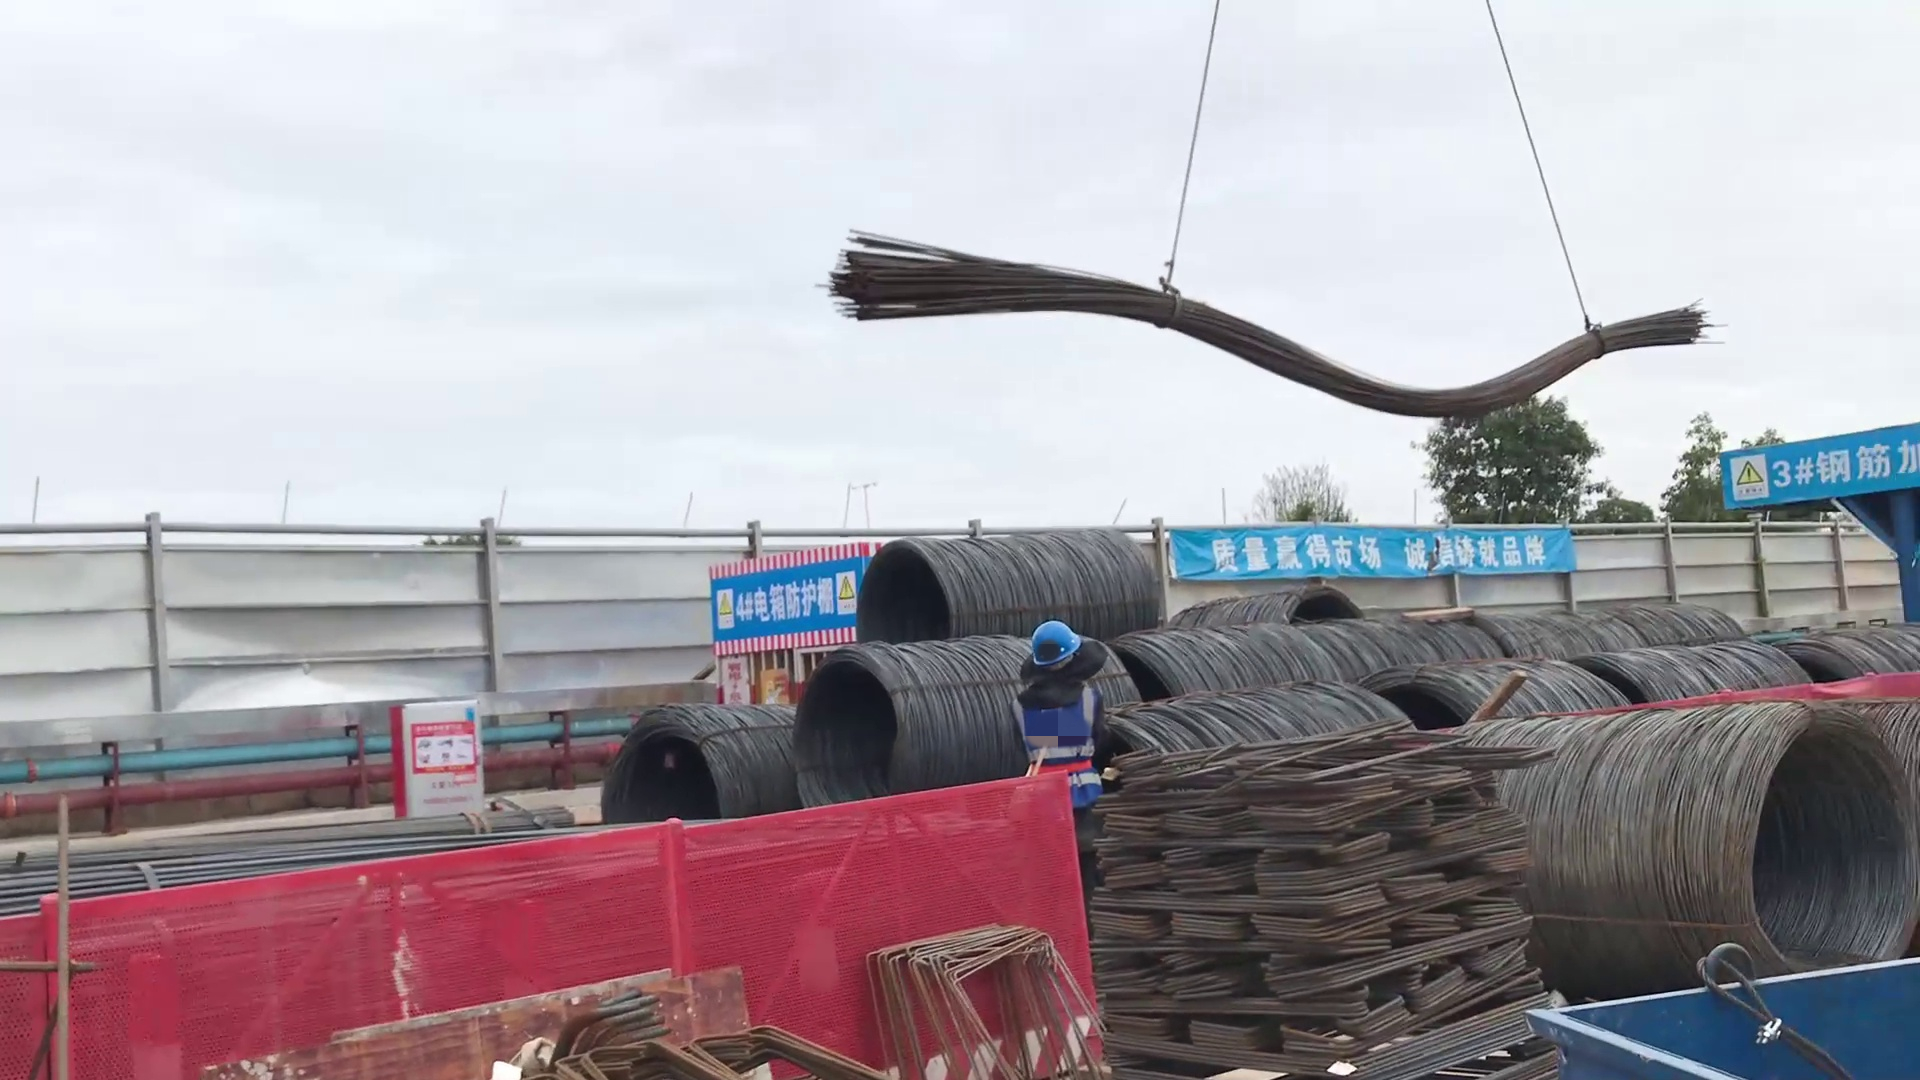helmet: (1031, 620, 1080, 666)
hopper: (1521, 946, 1920, 1080)
person: (1008, 619, 1114, 811)
rebar: (830, 225, 1709, 421)
slogan: (1171, 528, 1572, 583)
vest: (1012, 682, 1101, 811)
